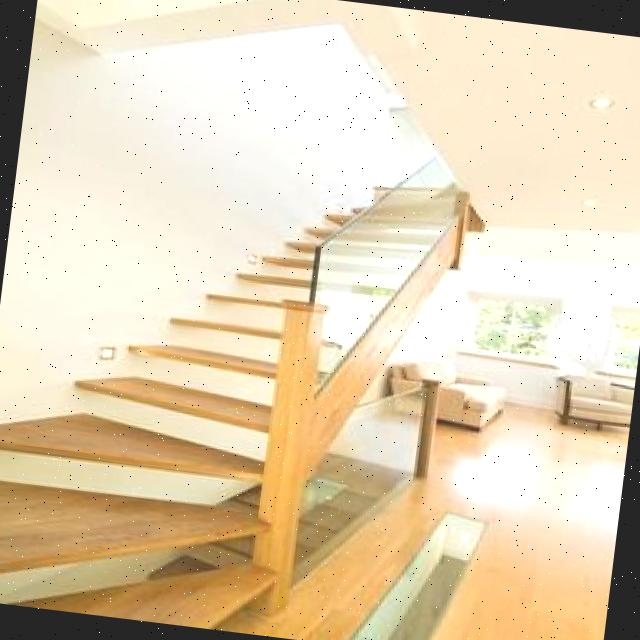stairs: (0, 127, 483, 640)
